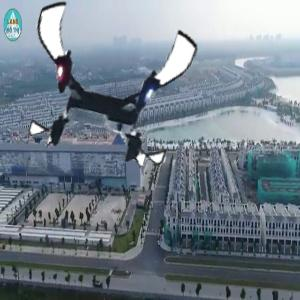drone: (22, 1, 188, 167)
